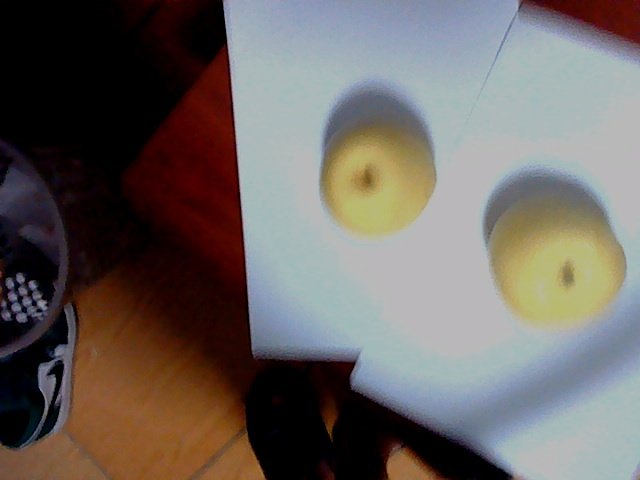pear: (483, 201, 625, 332), (321, 127, 438, 236)
